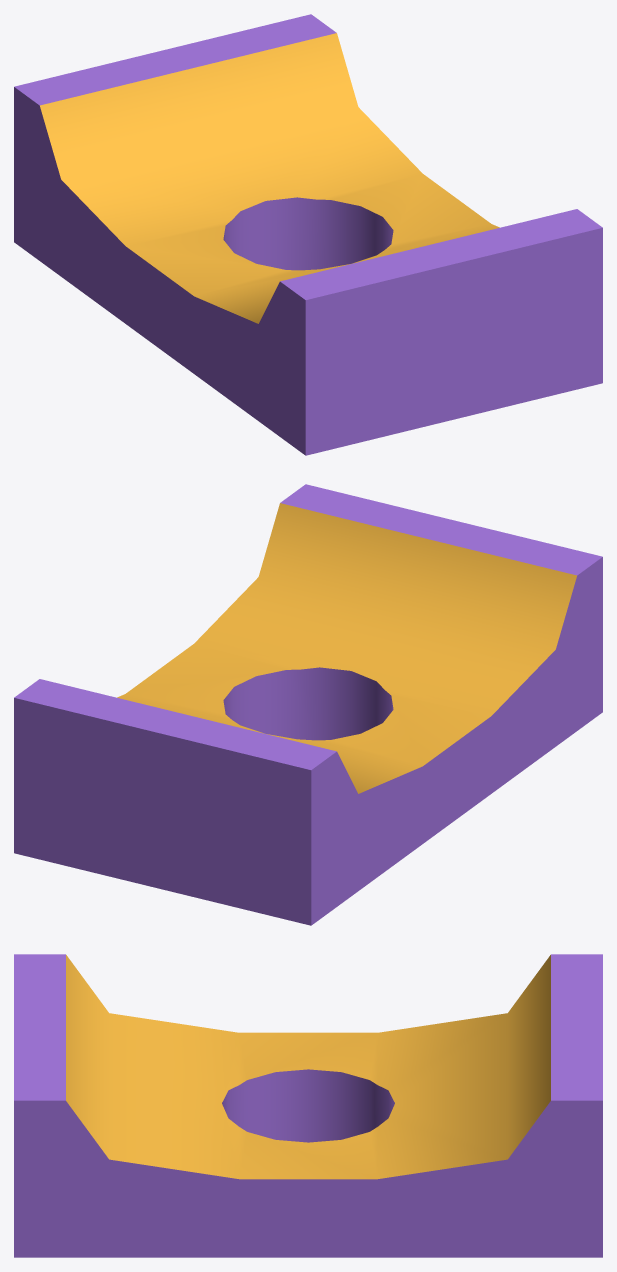
Rendered from straight-wide-hole-col.glb.
3 renders of one model, top to bottom at view 1: azimuth 30°, elevation 25°; view 2: azimuth 150°, elevation 25°; view 3: azimuth 270°, elevation 25°, orthographic.
Parts seen in each view (by area): view 1: straight-wide-hole-col; view 2: straight-wide-hole-col; view 3: straight-wide-hole-col.
Boxes of the visible parts, left/top/right/bottom form: straight-wide-hole-col: left=14, top=14, right=602, bottom=455; straight-wide-hole-col: left=14, top=484, right=602, bottom=925; straight-wide-hole-col: left=14, top=954, right=602, bottom=1257.
Size of the model in its own units: 1 by 0.5 by 1.7.
Materials: 1 (1 with a texture image).
